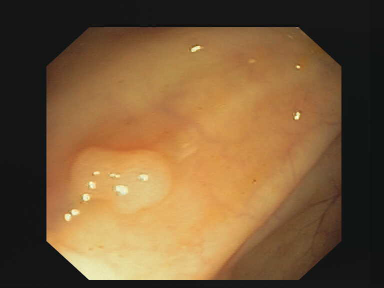polyp: (51, 134, 175, 219)
